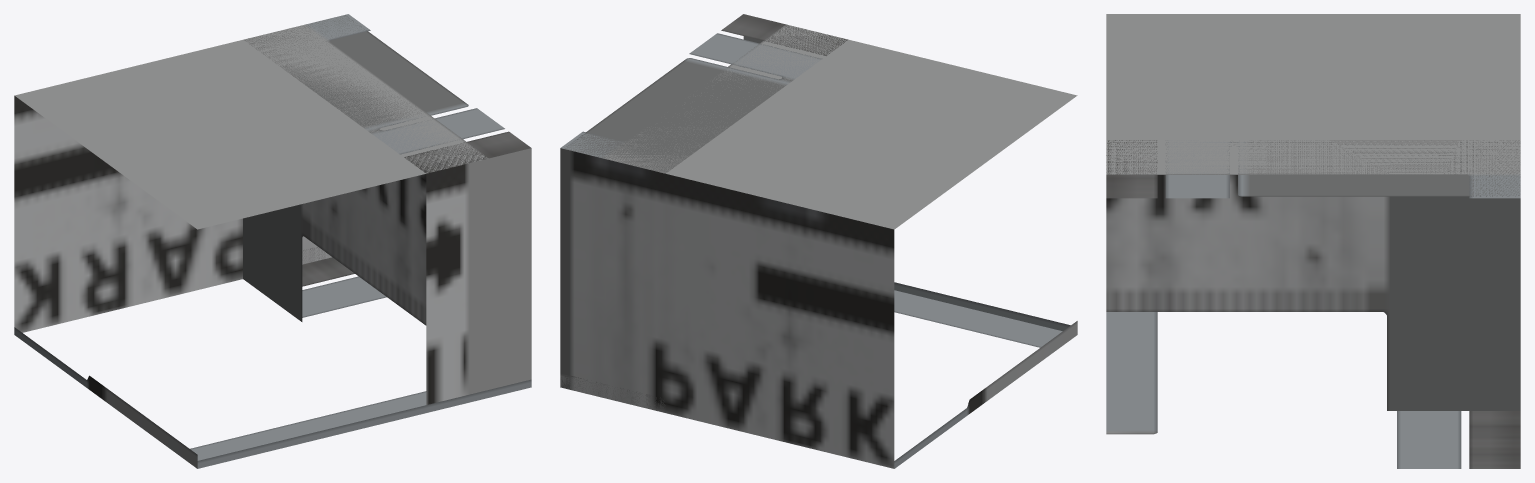
Rendered from section-0.obj.
3 views of the same model, side by side, from view 1: azimuth 30°, elevation 25°; view 2: azimuth 150°, elevation 25°; view 3: azimuth 270°, elevation 25° (orthographic). The views are drawn at different scales.
Size of the model in its own units: 1.02 by 0.6972 by 0.967.
